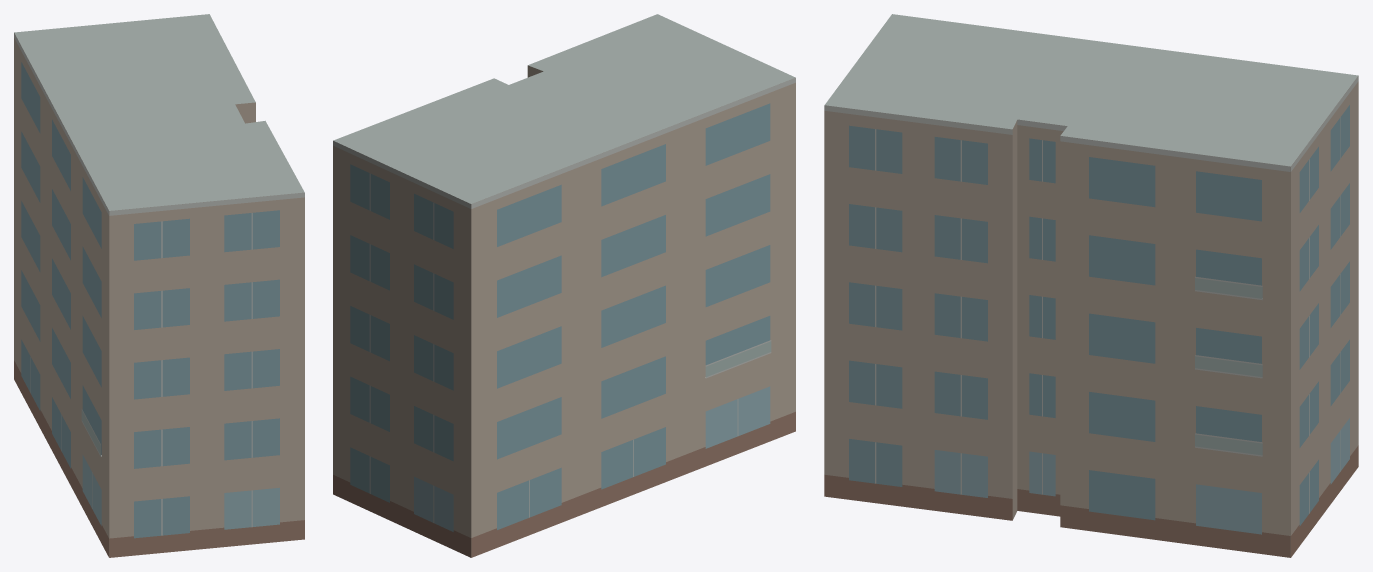
The model's file is survey-upis-32875572.glb.
3 views of the same model, side by side, from view 1: azimuth 30°, elevation 25°; view 2: azimuth 150°, elevation 25°; view 3: azimuth 270°, elevation 25° (orthographic). The views are drawn at different scales.
Parts seen in each view (by area): view 1: survey-upis-32875572.tmp; view 2: survey-upis-32875572.tmp; view 3: survey-upis-32875572.tmp.
Boxes of the visible parts, x1,y1,x2,y2 form: survey-upis-32875572.tmp: (14, 14, 304, 557); survey-upis-32875572.tmp: (333, 14, 795, 557); survey-upis-32875572.tmp: (824, 14, 1358, 557).
Size of the model in its own units: 14.39 by 17.2 by 21.28.
